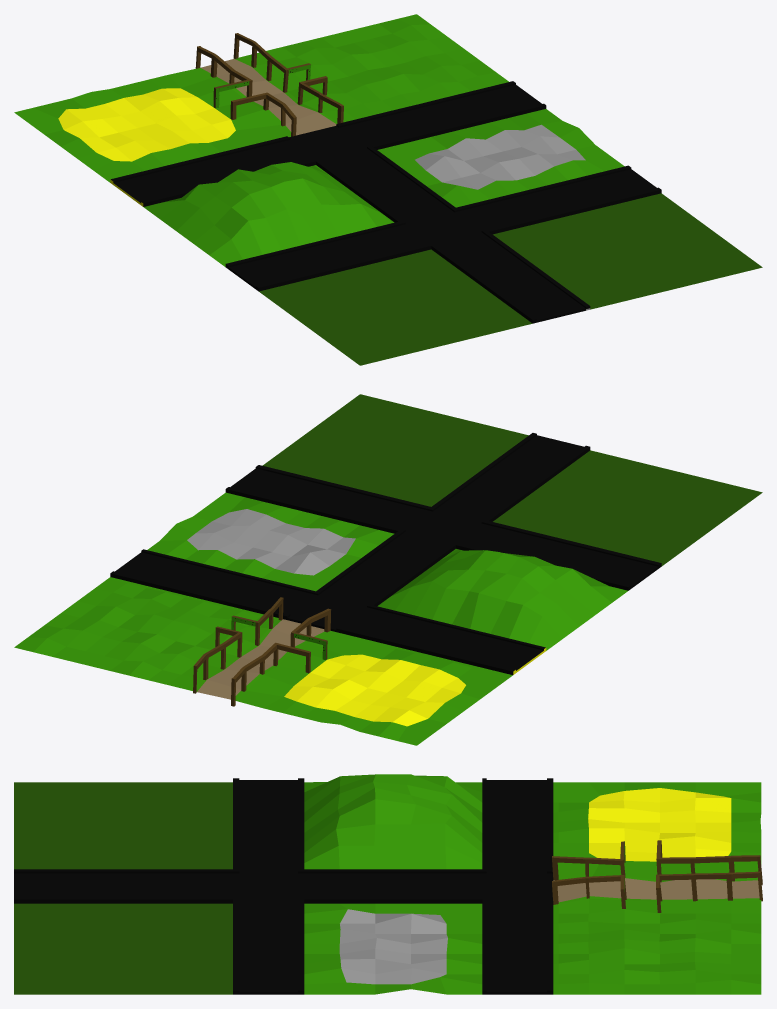
File: TerrainFixed.fbx
3 views of the same model, one above another, from view 1: azimuth 30°, elevation 25°; view 2: azimuth 150°, elevation 25°; view 3: azimuth 270°, elevation 25° (orthographic). The views are drawn at different scales.
Parts seen in each view (by area): view 1: Plane; view 2: Plane; view 3: Plane.
Part boxes in pixels (<box>): Plane: <box>14,14,762,365</box>; Plane: <box>14,394,762,745</box>; Plane: <box>14,774,762,994</box>.
Bounding box in the file's own units: 200 × 298 × 28.42.
